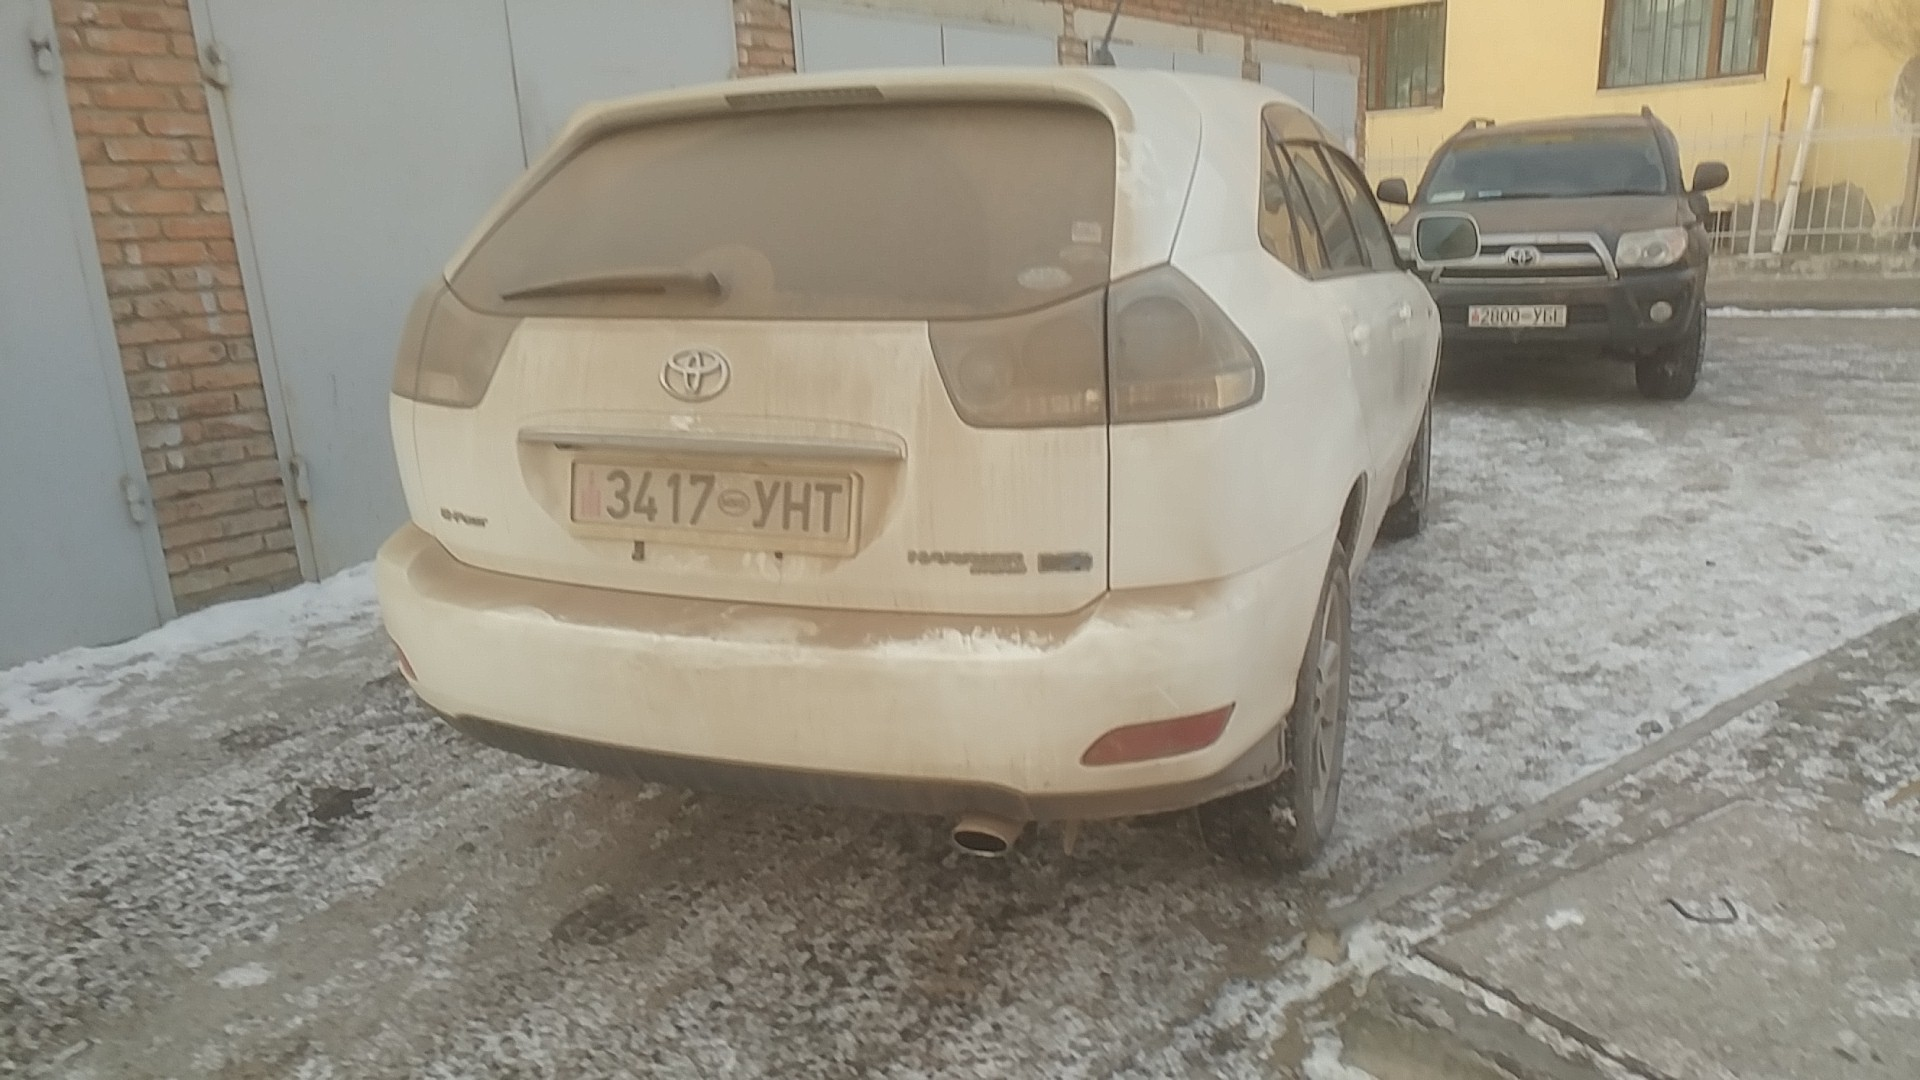1: (665, 471, 685, 524)
3: (604, 469, 633, 519)
4: (633, 471, 658, 521)
7: (687, 471, 721, 525)
n: (779, 479, 814, 531)
plate: (564, 450, 867, 557)
t: (812, 479, 846, 533)
u: (750, 478, 781, 527)
